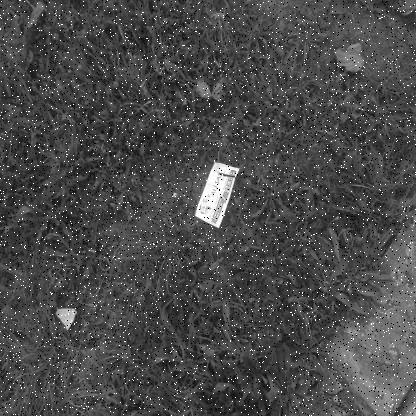paper: (194, 161, 239, 229)
